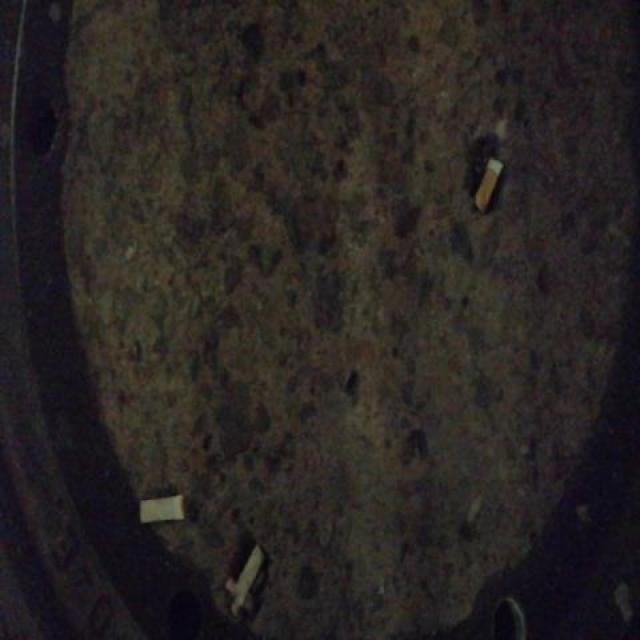non-organic waste: (229, 538, 268, 614), (470, 153, 506, 219), (132, 490, 188, 531)
